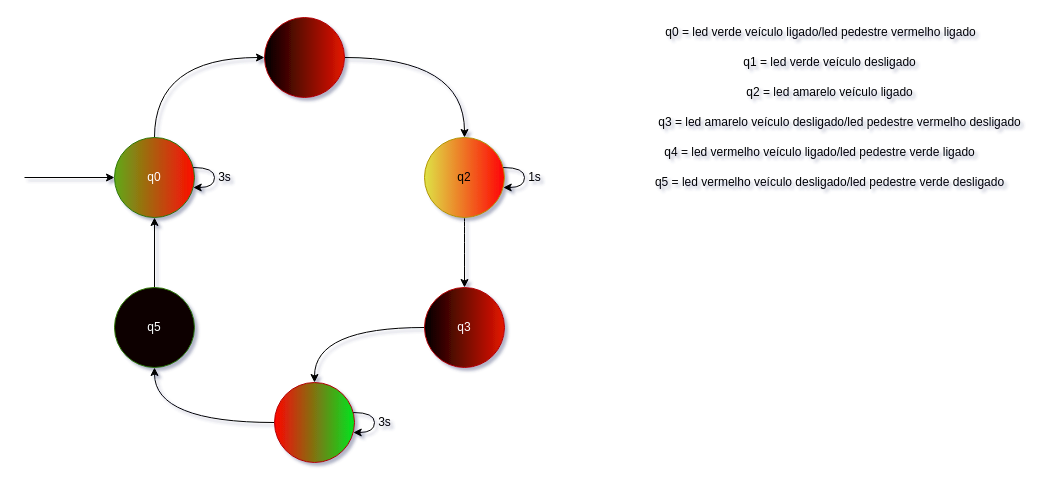
Some shapes in this 1058 by 486 pixel diagram are drawn without their labels. Each missing label, with the box of its shape:
q1: (264, 16, 344, 98)
q4: (274, 382, 354, 462)
